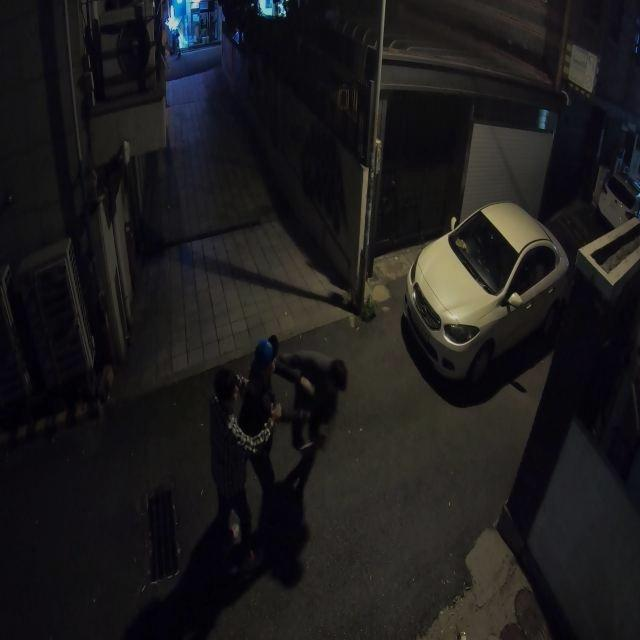fight: (205, 336, 349, 538)
